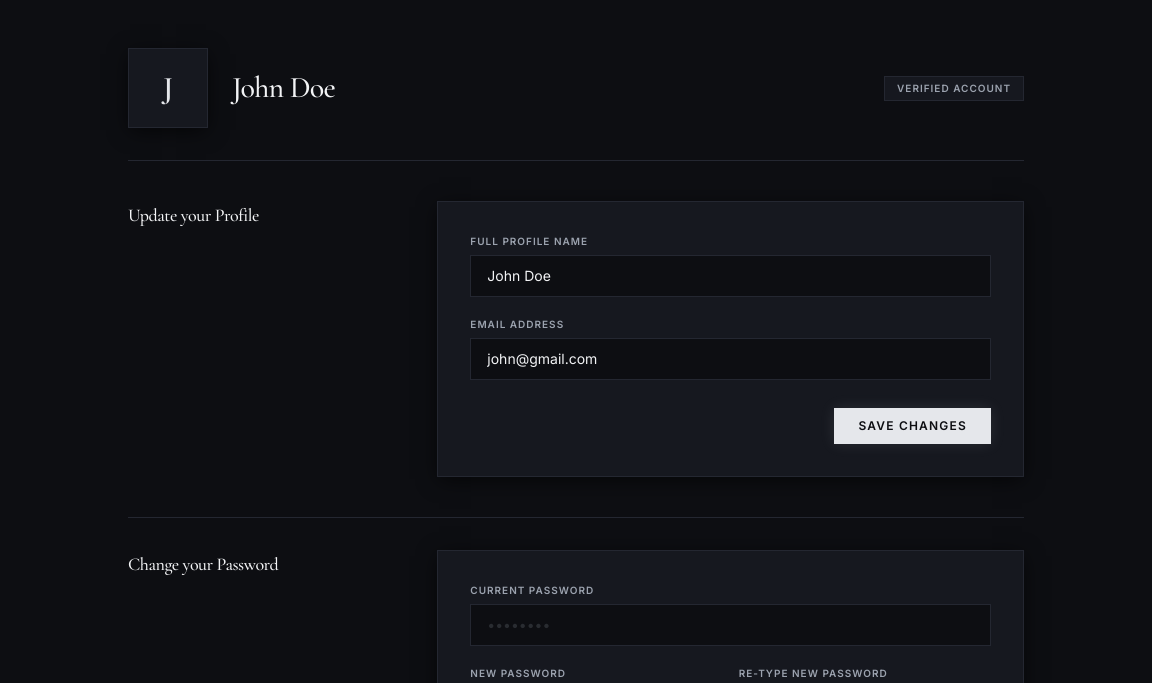
UserProfile Page › should show error message if profile update fails
Expected: the field showing "John Doe" is shown, [470, 255, 991, 297]
Click the button "Save Changes": (913, 426) [834, 408, 991, 444]
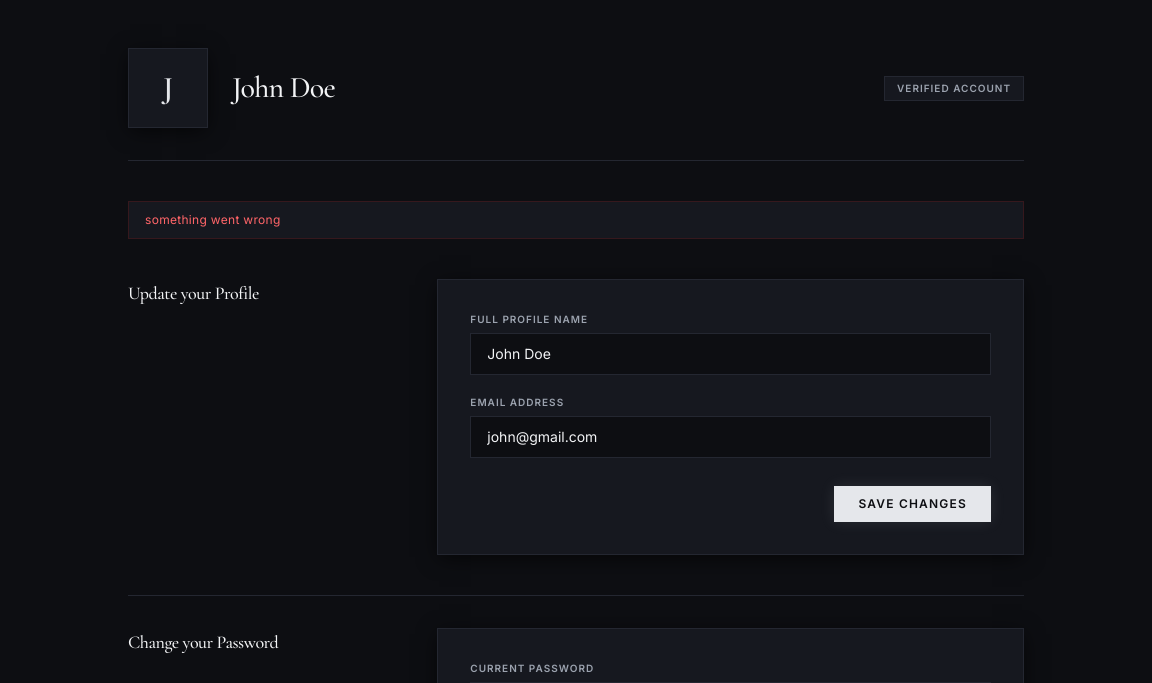
Expected: the text "something went wrong" is shown, [128, 201, 1024, 239]
